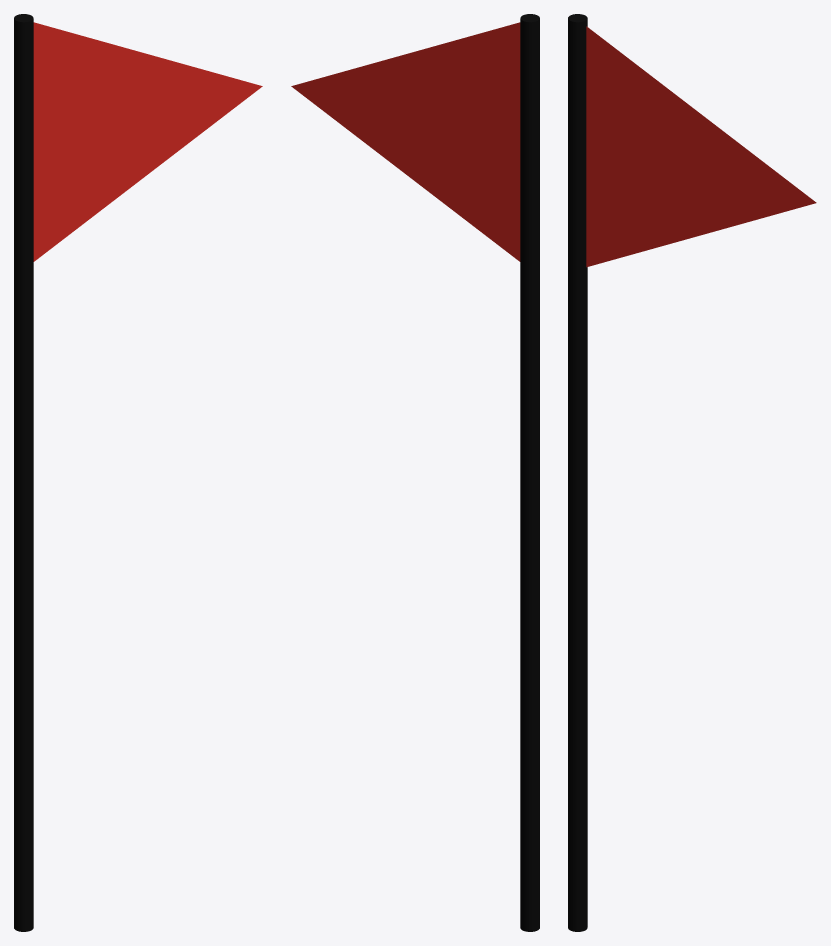
The model's file is flag.glb.
3 views of the same model, side by side, from view 1: azimuth 30°, elevation 25°; view 2: azimuth 150°, elevation 25°; view 3: azimuth 330°, elevation 25° (orthographic).
Parts seen in each view (by area): view 1: Plane, Cylinder; view 2: Plane, Cylinder; view 3: Plane, Cylinder.
Part boxes in pixels (x1,y1,x2,y2): Plane: [33, 22, 262, 261]; Cylinder: [14, 14, 33, 931]; Plane: [291, 22, 520, 261]; Cylinder: [520, 14, 539, 931]; Plane: [586, 26, 816, 267]; Cylinder: [568, 14, 587, 931].
Bounding box in the file's own units: 0.8149 × 2.86 × 0.0556.
